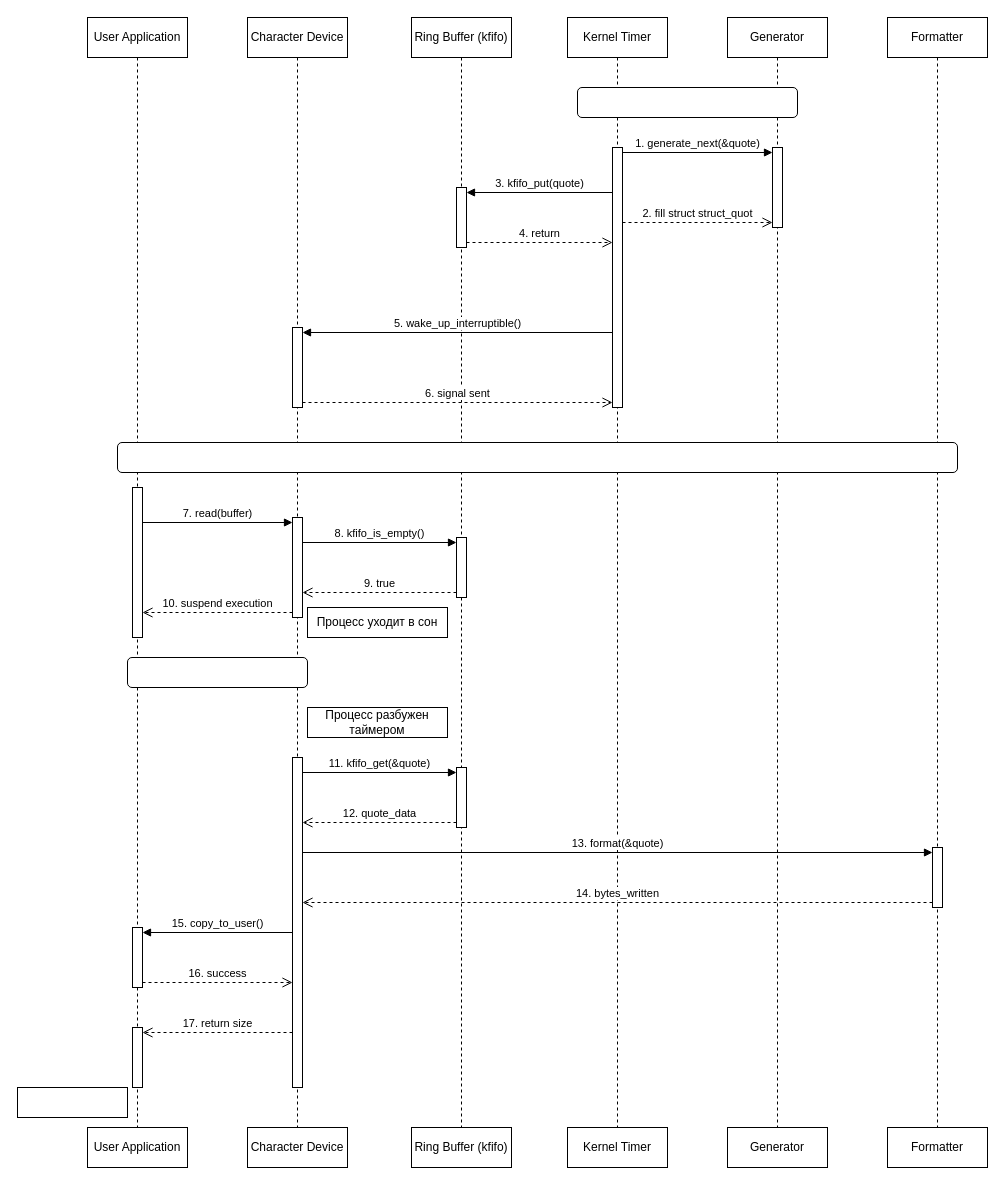
Some shapes in this 1005 by 1185 pixel diagram are drawn without their labels. The shapes that lost their labels are listed below. From the top down, each one's box as (x1, y1, x2, y2) in pixels, then its label:
(576, 86, 798, 118): PRODUCER
(116, 442, 958, 472): CONSUMER
(126, 656, 308, 688): Ждем сигнала от таймера
(16, 1086, 128, 1118): Данный получены
